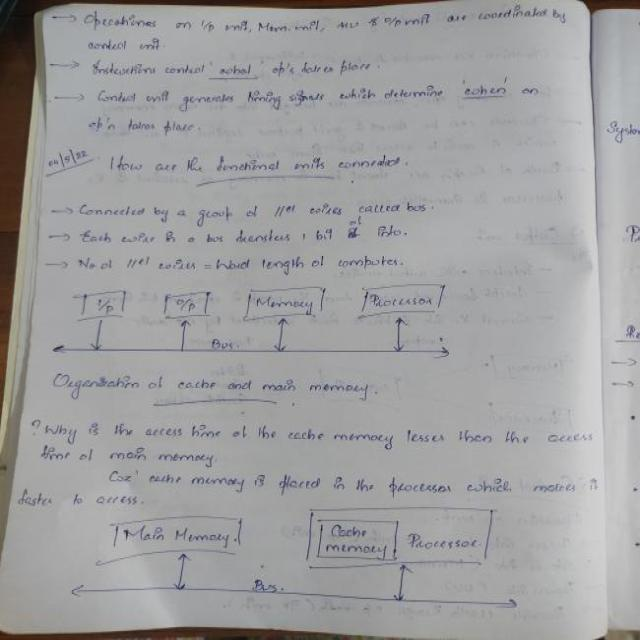Figure Detection - v3 Dataset Version2: (57, 496, 540, 619), (44, 278, 470, 366)
